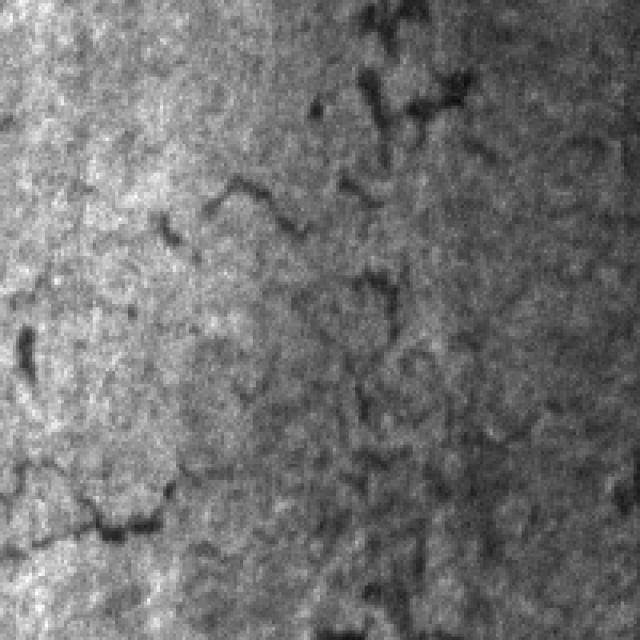crazing: (0, 259, 528, 637), (141, 0, 502, 272)
